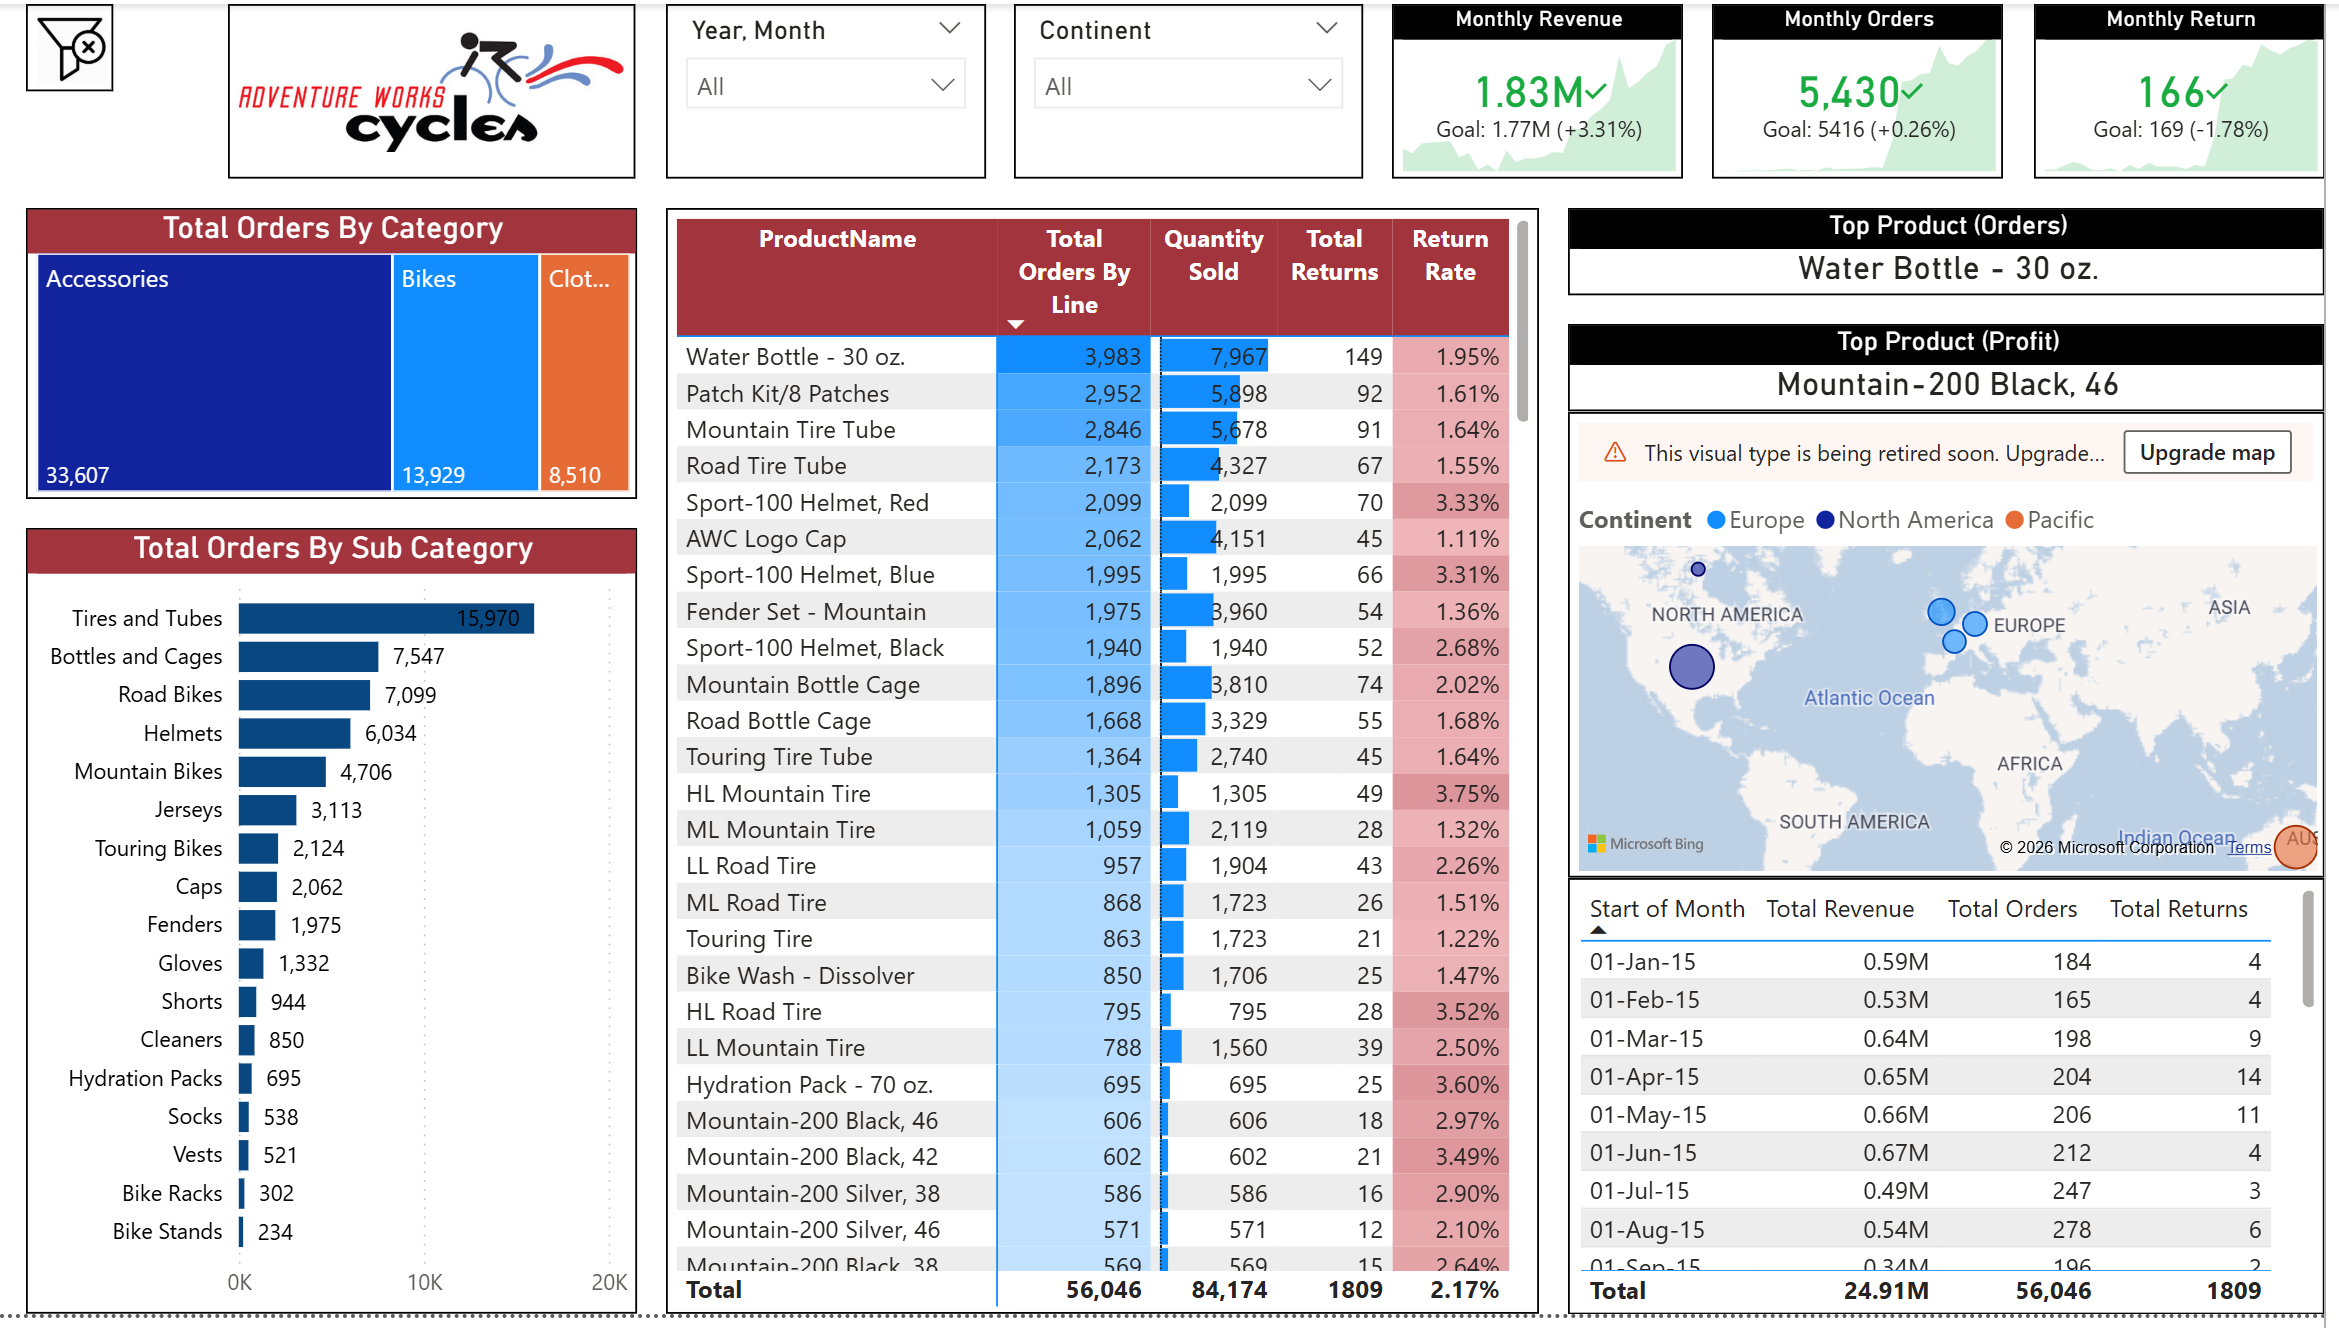

Layout of this report page (visuals, bound fields, positions):
{"tool":"powerbi","page":{"name":"Summary Exc","canvas":[1280,720],"ordinal":0},"visuals":[{"type":"image","box":[128,0,224,96],"z":0},{"type":"barChart","title":"Total Orders By Sub Category","fields":{"Y":["A Measure Table.Total Orders By Line"],"Category":["Product_Subcategory_Lookup.SubcategoryName"]},"box":[16,288,336,432],"z":1000},{"type":"treemap","title":"Total Orders By Category","fields":{"Group":["Product_Category_Lookup.CategoryName"],"Values":["A Measure Table.Total Orders By Line"]},"box":[16,112,336,160],"z":2000},{"type":"pivotTable","fields":{"Values":["A Measure Table.Total Orders By Line","A Measure Table.Quantity Sold","A Measure Table.Total Returns","A Measure Table.Return Rate"],"Rows":["Product_Lookup.ProductName"]},"box":[368,112,480,608],"z":3000},{"type":"slicer","title":"Country Title","fields":{"Values":["Territories_Lookup.Continent"]},"box":[560,0,192,96],"z":4000},{"type":"tableEx","fields":{"Values":["Calendar_Lookup.Start of Month","A Measure Table.Total Revenue Measure","A Measure Table.Total Orders By Line","A Measure Table.Total Returns"]},"box":[864,480,416,240],"z":5000},{"type":"kpi","title":"Monthly Revenue","fields":{"Indicator":["A Measure Table.Total Revenue Measure"],"TrendLine":["Calendar_Lookup.Start of Month"],"Goal":["A Measure Table.Prev Month Revenue"]},"box":[768,0,160,96],"z":6000},{"type":"kpi","title":"Monthly Return","fields":{"TrendLine":["Calendar_Lookup.Start of Month"],"Goal":["A Measure Table.Prev Month Returns"],"Indicator":["A Measure Table.Total Returns"]},"box":[1120,0,160,96],"z":7000},{"type":"kpi","title":"Monthly Orders","fields":{"TrendLine":["Calendar_Lookup.Start of Month"],"Indicator":["A Measure Table.Total Orders By Line"],"Goal":["A Measure Table.Prev Month Orders"]},"box":[944,0,160,96],"z":8000},{"type":"card","title":"Top Product (Orders)","fields":{"Values":["Min(Product_Lookup.ProductName)"]},"box":[864,112,416,48],"z":9000},{"type":"card","title":"Top Product (Profit)","fields":{"Values":["Min(Product_Lookup.ProductName)"]},"box":[864,176,416,48],"z":10000},{"type":"map","fields":{"Category":["Territories_Lookup.Country"],"Series":["Territories_Lookup.Continent"],"Size":["A Measure Table.Total Revenue Measure"]},"box":[864,224,416,256],"z":11000},{"type":"slicer","fields":{"Values":["Calendar_Lookup.Date.Variation.Date Hierarchy.Year","Calendar_Lookup.Date.Variation.Date Hierarchy.Month"]},"box":[368,0,176,96],"z":12000},{"type":"image","box":[16,0,48,48],"z":13000}]}

Visuals, with their boxes in screenshot pixels (x1, y1, x2, y2), scaled from the page's 1280x720 canvas onto the 2339x1328 screenshot:
image: [234, 0, 643, 177]
"Total Orders By Sub Category" barChart: [29, 531, 643, 1327]
"Total Orders By Category" treemap: [29, 207, 643, 502]
pivotTable - A Measure Table.Total Orders By Line x A Measure Table.Quantity Sold: [672, 207, 1550, 1327]
"Country Title" slicer: [1023, 0, 1374, 177]
tableEx - Calendar_Lookup.Start of Month x A Measure Table.Total Revenue Measure: [1579, 885, 2338, 1327]
"Monthly Revenue" kpi: [1403, 0, 1696, 177]
"Monthly Return" kpi: [2047, 0, 2338, 177]
"Monthly Orders" kpi: [1725, 0, 2017, 177]
"Top Product (Orders)" card: [1579, 207, 2338, 295]
"Top Product (Profit)" card: [1579, 325, 2338, 413]
map - Territories_Lookup.Country x Territories_Lookup.Continent: [1579, 413, 2338, 885]
slicer - Calendar_Lookup.Date.Variation.Date Hierarchy.Year x Calendar_Lookup.Date.Variation.Date Hierarchy.Month: [672, 0, 994, 177]
image: [29, 0, 117, 89]
